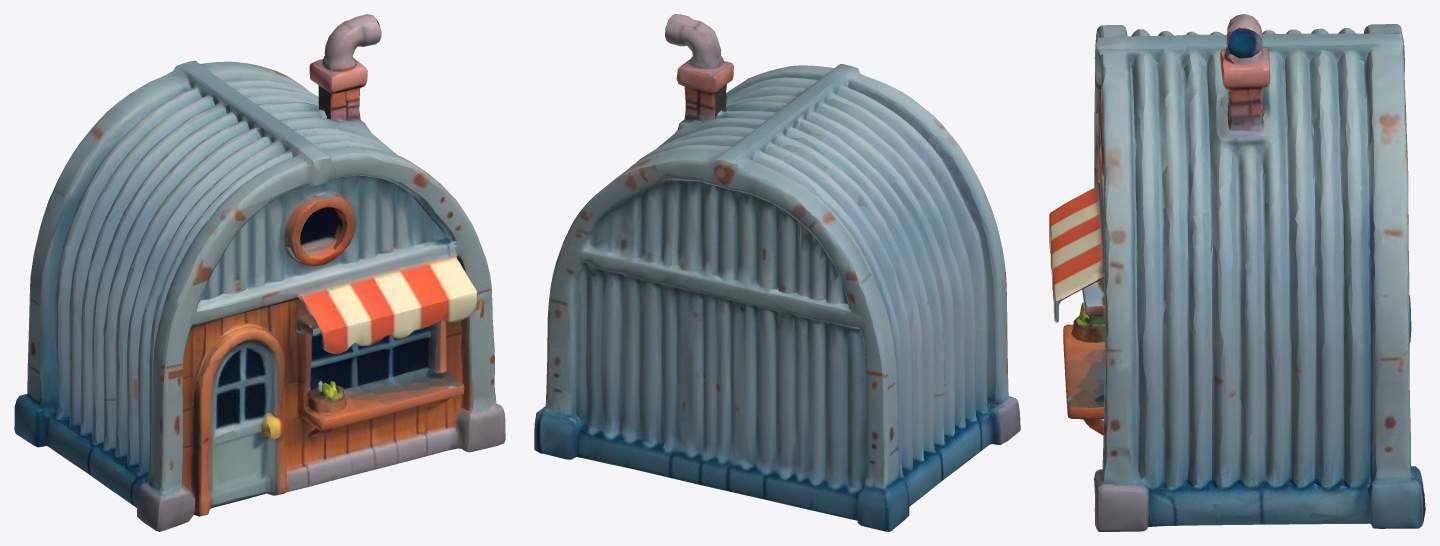
The model's file is cafe.glb.
3 views of the same model, side by side, from view 1: azimuth 30°, elevation 25°; view 2: azimuth 150°, elevation 25°; view 3: azimuth 270°, elevation 25° (orthographic). The views are drawn at different scales.
Parts seen in each view (by area): view 1: cafe_s15; view 2: cafe_s15; view 3: cafe_s15.
Part boxes in pixels (left/top/right/bottom): cafe_s15: left=14, top=14, right=505, bottom=531; cafe_s15: left=534, top=14, right=1020, bottom=531; cafe_s15: left=1049, top=14, right=1425, bottom=531.
Bounding box in the file's own units: 0.9394 × 1 × 0.7299.
Materials: 1 (1 with a texture image).
